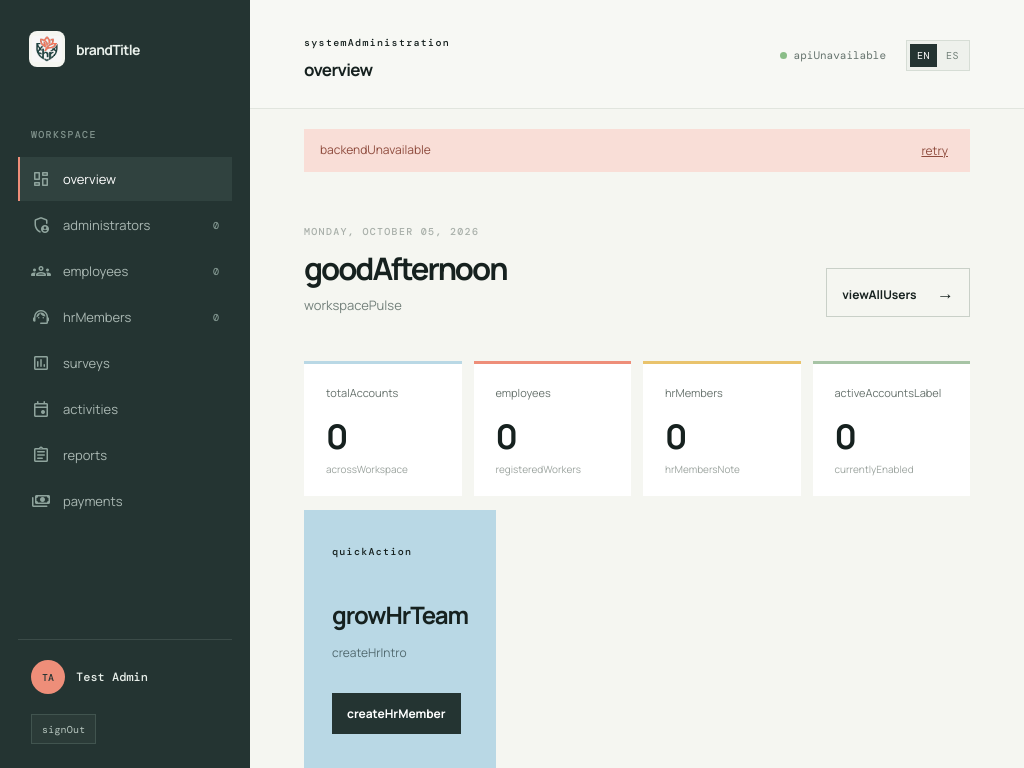
Test: [integration] src/app/App.tsx › retry unauthorized response clears earlier session
Expected: the message "backendUnavailable retry" is shown, [304,129,970,172]
Click the button "retry": [935, 150] box [915,141,954,160]
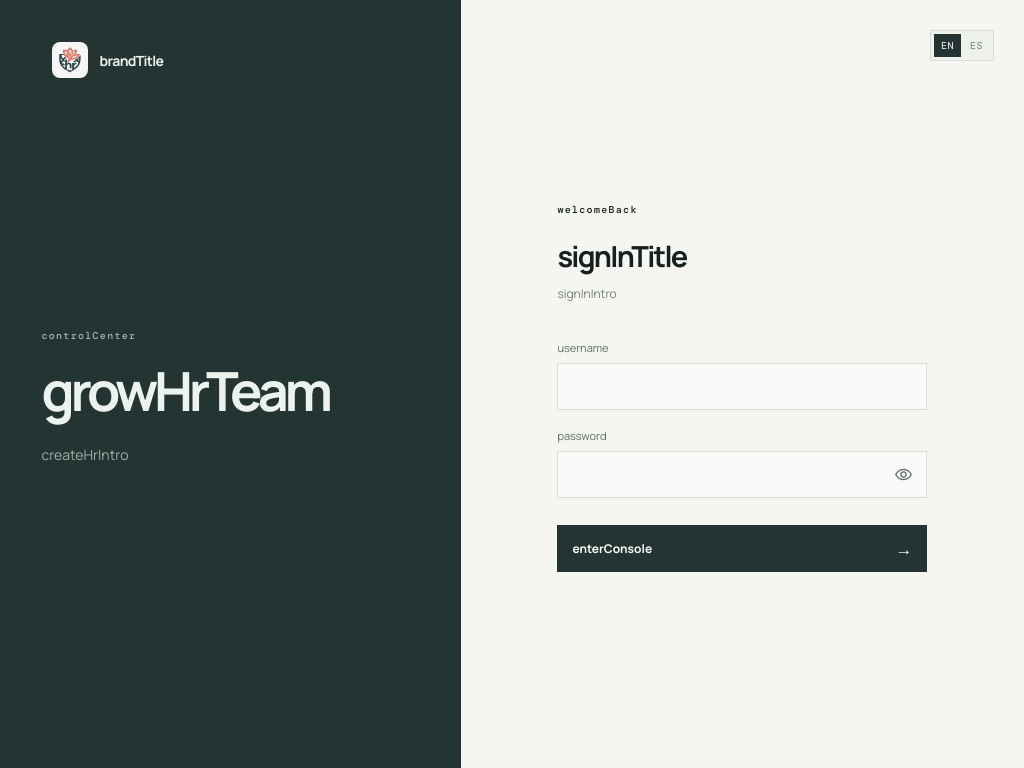
Result: the button "enterConsole →" is shown at [557,525,927,572]
